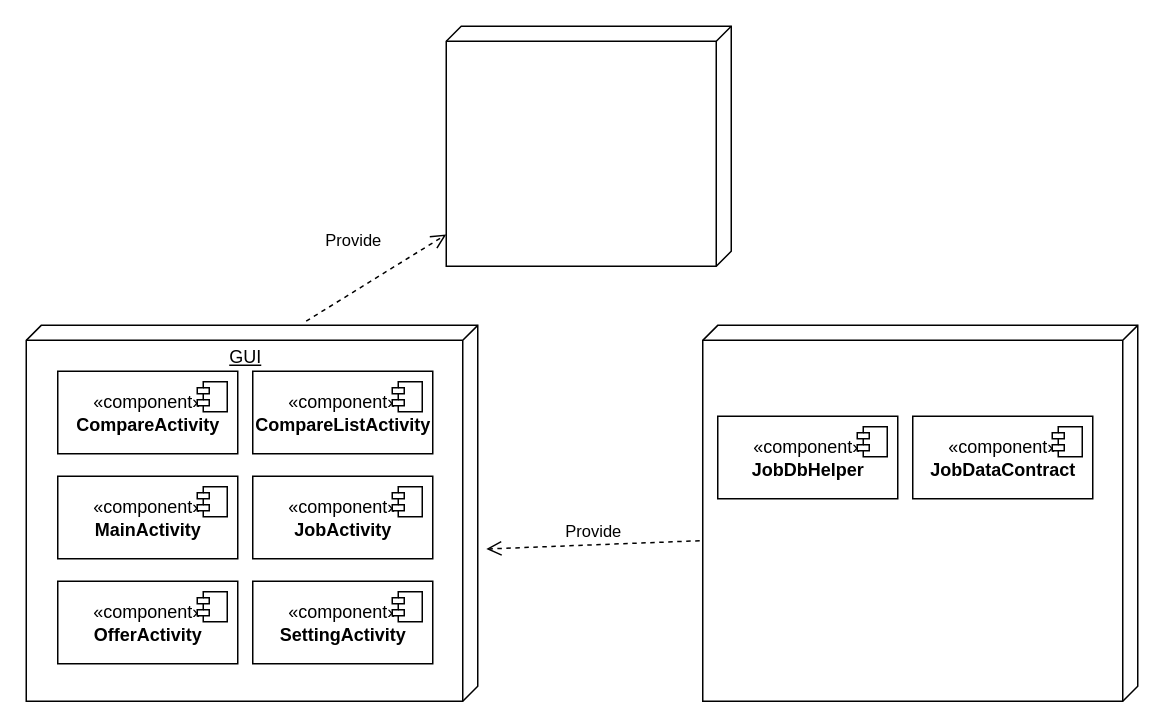
Image size: 1164x728. Some labels were removed from this diagram. The shapes that lost their labels are listed below. From the top down, each one's box as (x1, y1, x2, y2) in pixels, then its label:
(445, 25, 731, 266): Android Device (AVD)
(701, 324, 1138, 701): Database
